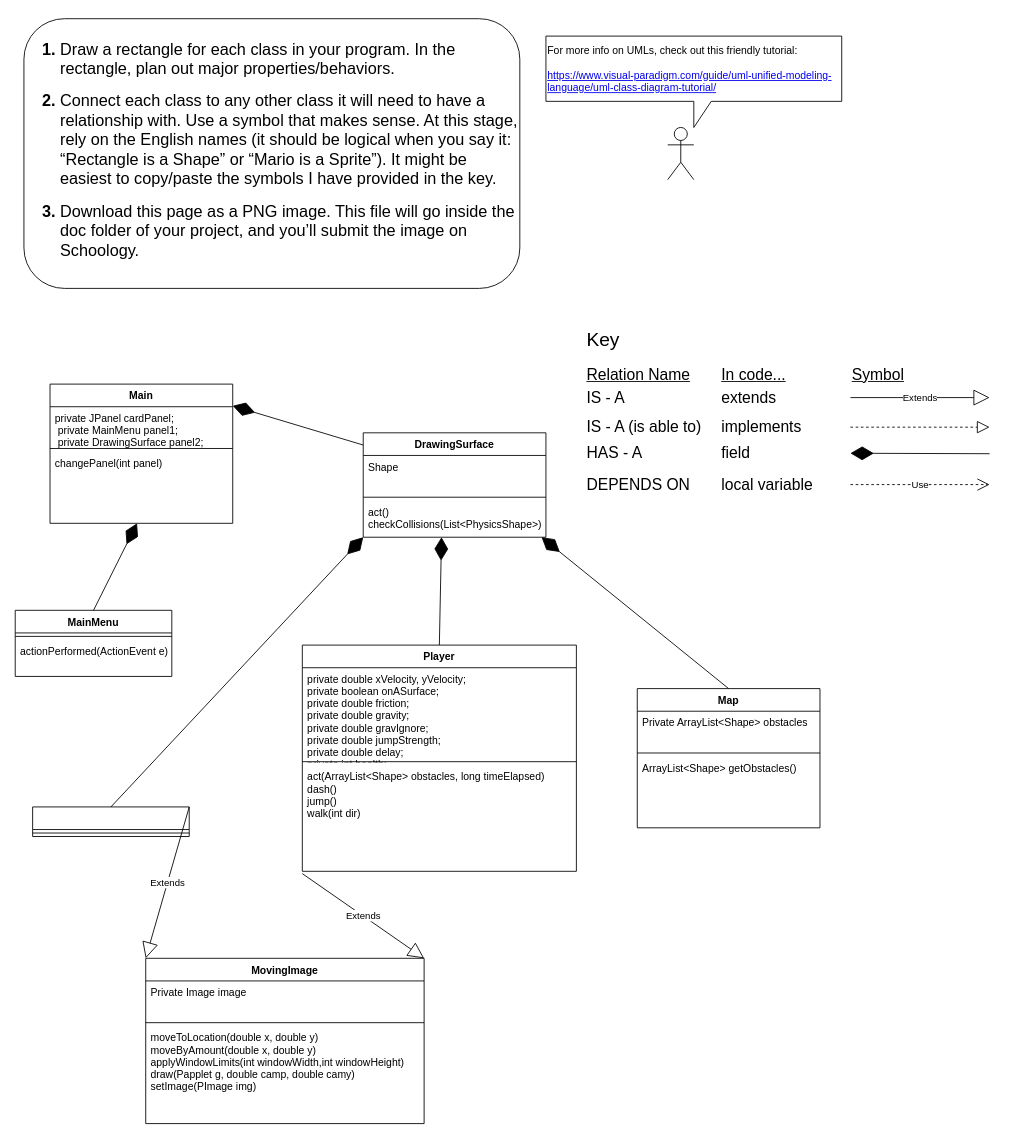
The diagram is 1027 pixels wide and 1141 high, and some of its shapes have lost their labels. The centre of each missing label's shape, as x and y in pixels:
Actor: point (680, 153)
Entity: point (110, 821)
